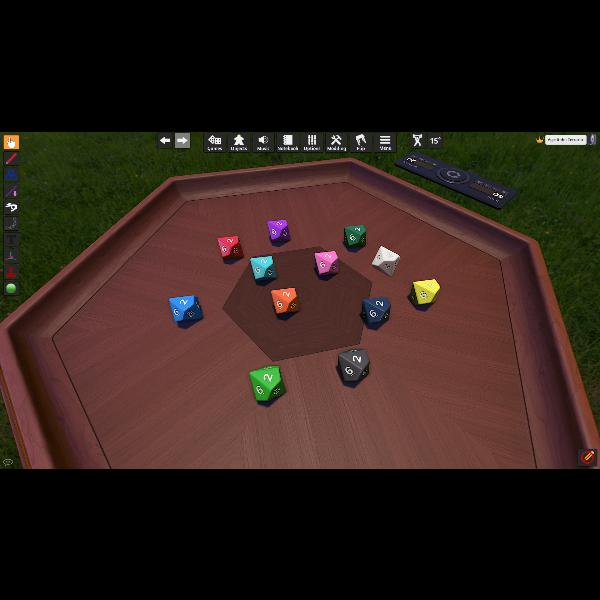d10: (249, 365, 285, 401), (336, 348, 368, 381), (169, 294, 202, 322), (270, 286, 300, 314), (372, 246, 398, 276), (362, 296, 388, 324), (410, 278, 436, 306), (217, 234, 243, 260), (250, 255, 276, 280), (314, 250, 338, 274), (267, 219, 289, 242), (344, 225, 364, 247)
